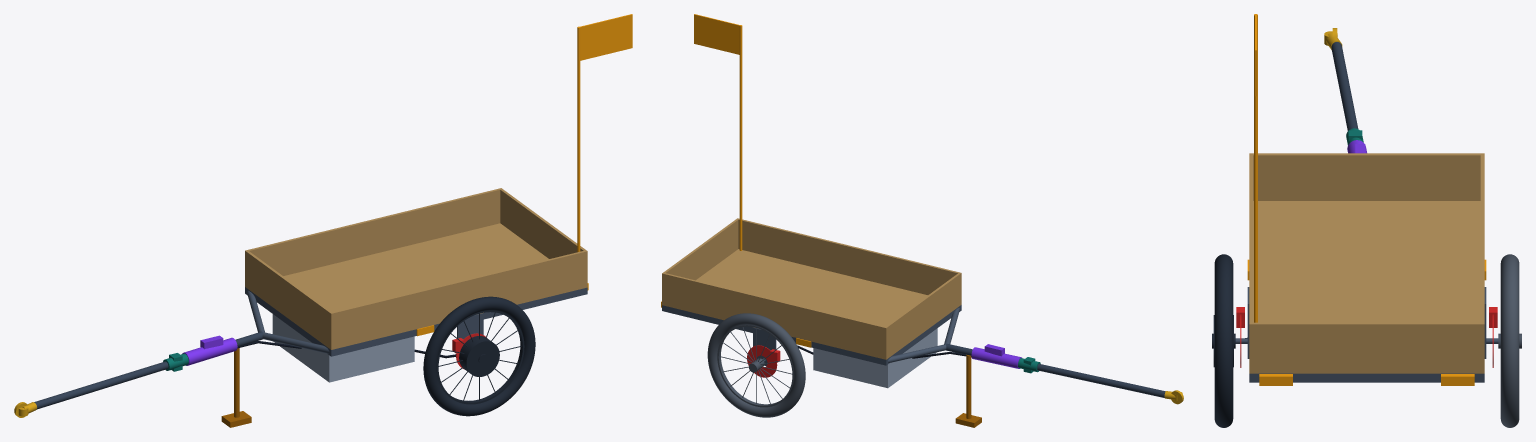
The picture shows the model from 3 angles, left to right: view 1: azimuth 30°, elevation 25°; view 2: azimuth 150°, elevation 25°; view 3: azimuth 270°, elevation 25°; orthographic projection. The views are drawn at different scales.
Parts seen in each view (by area): view 1: Deck and side boards, Hub motor wheel, 250 W geared, Battery and electronics enclosure, Chassis frame, welded steel, Lights, reflectors and flag, Drawbar, Overrun brake coupler, Parking stand; view 2: Deck and side boards, Idler wheel, Battery and electronics enclosure, Chassis frame, welded steel, Lights, reflectors and flag, Drawbar, Overrun brake coupler, Mechanical disc brakes (pair), Parking stand; view 3: Deck and side boards, Hub motor wheel, 250 W geared, Idler wheel, Chassis frame, welded steel, Lights, reflectors and flag, Drawbar, Mechanical disc brakes (pair).
Boxes of the visible parts, bbox=[...] form: Deck and side boards: bbox=[245, 188, 587, 349]; Hub motor wheel, 250 W geared: bbox=[423, 296, 535, 416]; Battery and electronics enclosure: bbox=[272, 314, 414, 382]; Chassis frame, welded steel: bbox=[245, 287, 587, 356]; Lights, reflectors and flag: bbox=[416, 14, 632, 336]; Drawbar: bbox=[34, 331, 262, 409]; Overrun brake coupler: bbox=[182, 335, 237, 365]; Parking stand: bbox=[221, 348, 251, 427]; Deck and side boards: bbox=[662, 218, 961, 359]; Idler wheel: bbox=[707, 313, 805, 417]; Battery and electronics enclosure: bbox=[813, 328, 937, 388]; Chassis frame, welded steel: bbox=[662, 305, 961, 365]; Lights, reflectors and flag: bbox=[661, 14, 811, 347]; Drawbar: bbox=[946, 343, 1165, 397]; Overrun brake coupler: bbox=[971, 344, 1021, 368]; Mechanical disc brakes (pair): bbox=[747, 345, 780, 377]; Parking stand: bbox=[955, 354, 981, 427]; Deck and side boards: bbox=[1249, 153, 1484, 373]; Hub motor wheel, 250 W geared: bbox=[1212, 254, 1235, 427]; Idler wheel: bbox=[1498, 254, 1521, 427]; Chassis frame, welded steel: bbox=[1235, 287, 1498, 382]; Lights, reflectors and flag: bbox=[1247, 14, 1486, 385]; Drawbar: bbox=[1331, 42, 1358, 130]; Mechanical disc brakes (pair): bbox=[1236, 307, 1497, 367].
Bounding box in the file's own units: 2.75 × 1.57 × 0.92.
